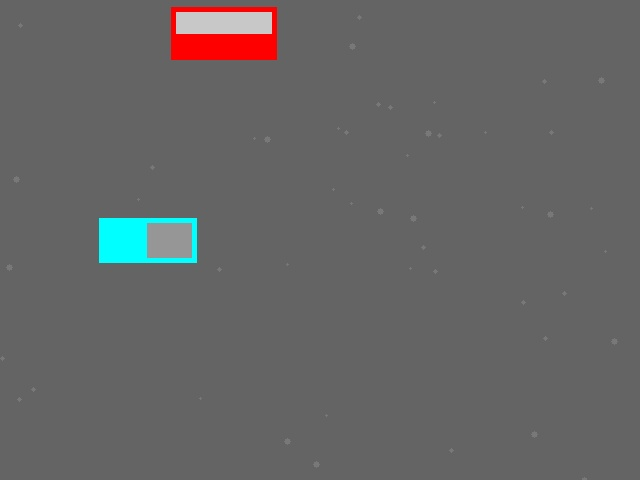car: (171, 7, 276, 59)
truck: (99, 218, 196, 262)
